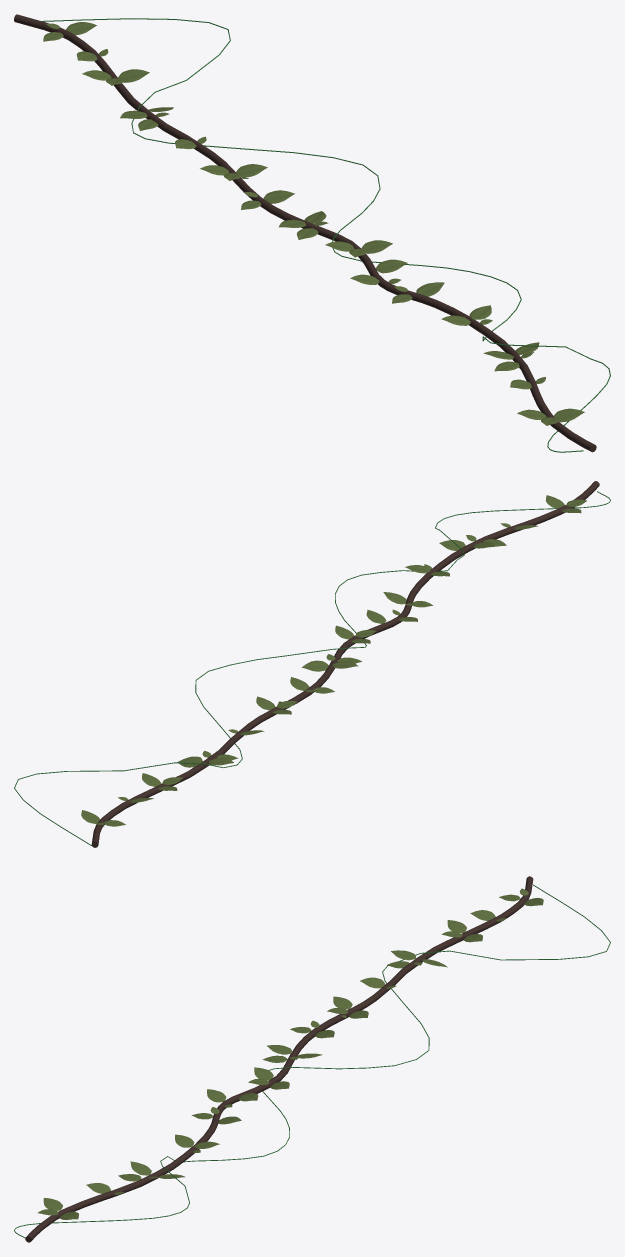
Rendered from Vines.fbx.
3 renders of one model, top to bottom at view 1: azimuth 30°, elevation 25°; view 2: azimuth 150°, elevation 25°; view 3: azimuth 330°, elevation 25°, orthographic. The views are drawn at different scales.
Visible parts, largest first — view 1: pPlane56; view 2: pPlane56; view 3: pPlane56.
Part boxes in pixels (x1,y1,x2,y2): pPlane56: (14,14,610,452); pPlane56: (14,481,610,847); pPlane56: (14,876,610,1242).
Bounding box in the file's own units: 2.21 × 0.1679 × 11.84.
